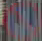No waiting: (2, 4, 41, 39)
